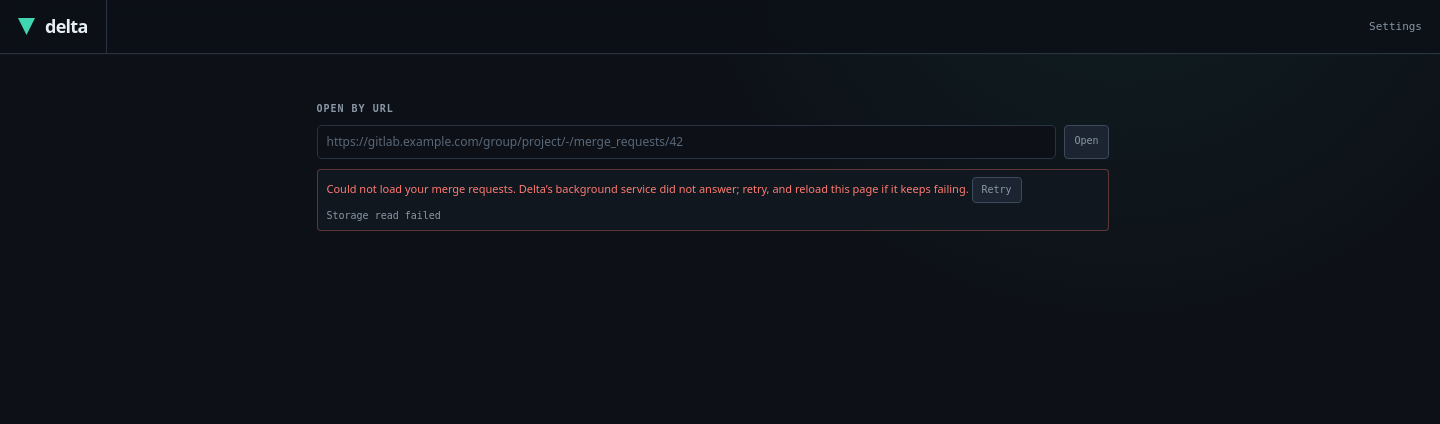
Test: a rejected merge request load explains itself and retries
Expected: the text "Could not load your merge requests" is shown, [326,180,969,196]
Expected: the text "Storage read failed" is shown, [326,210,441,221]
Step 1. Click the button "Retry" → {"x": 997, "y": 190}, box [972,176,1022,203]
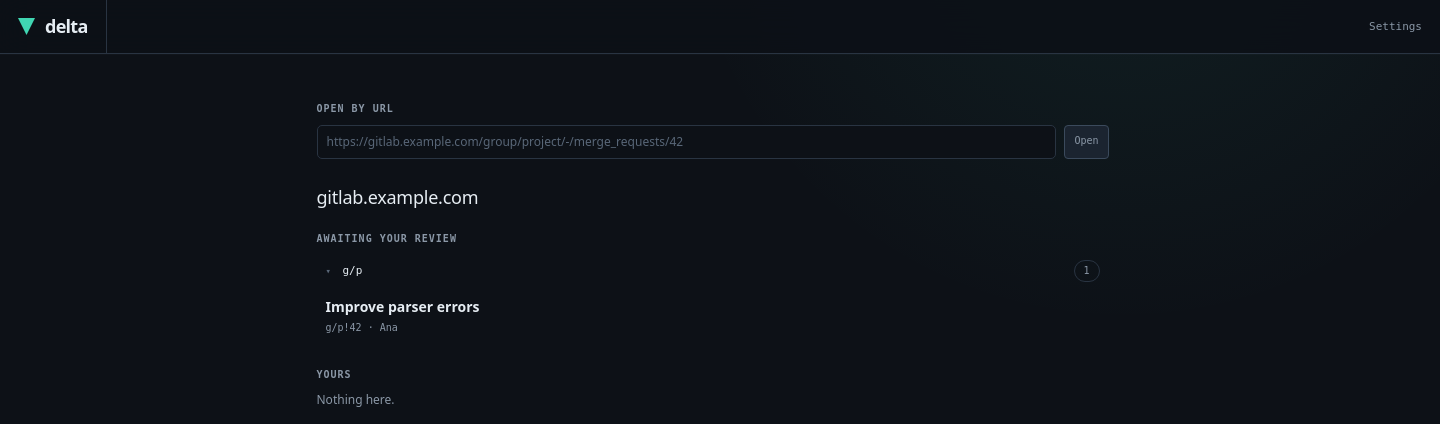
Expected: the text "Improve parser errors" is shown, [326,297,480,318]
Expected: the text "Could not load your merge requests" is gone
